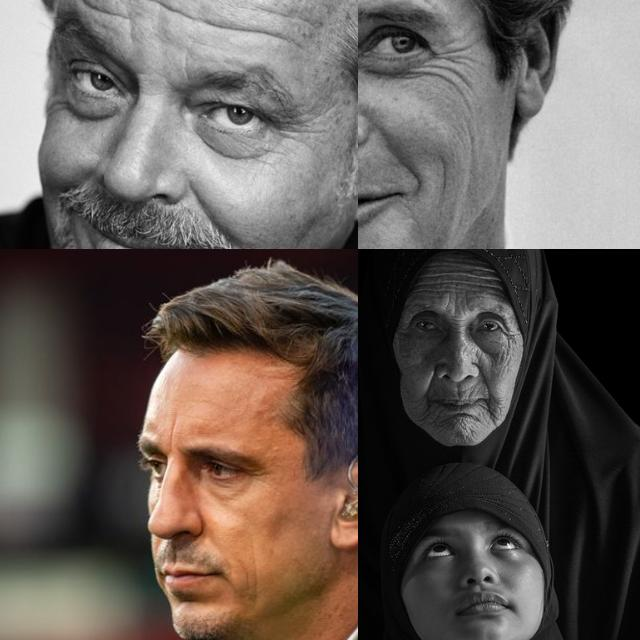chin: (446, 408, 480, 422)
crows_feet: (432, 49, 468, 81), (280, 116, 308, 150), (503, 325, 519, 353)
forehead: (253, 1, 310, 27), (250, 23, 296, 51), (153, 0, 194, 27), (208, 14, 246, 38), (480, 266, 504, 298), (421, 268, 445, 294), (454, 266, 478, 292)
frown_line: (163, 419, 177, 453), (450, 312, 466, 338)
gummy_smile: (476, 363, 494, 391), (420, 366, 438, 394)
masseter: (237, 558, 263, 594), (432, 156, 452, 198)
sad_smile: (422, 396, 436, 426), (483, 399, 499, 423)
